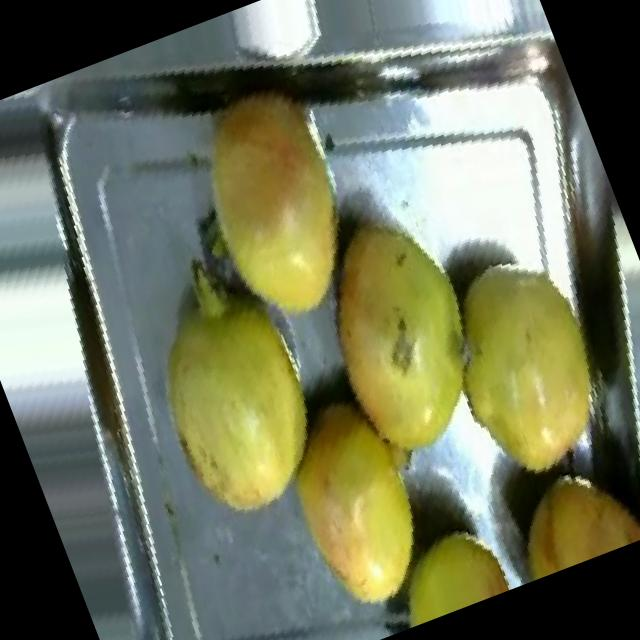fruit: (268, 177, 540, 499), (109, 276, 373, 560), (470, 427, 640, 589), (350, 489, 532, 637), (611, 425, 640, 539)
